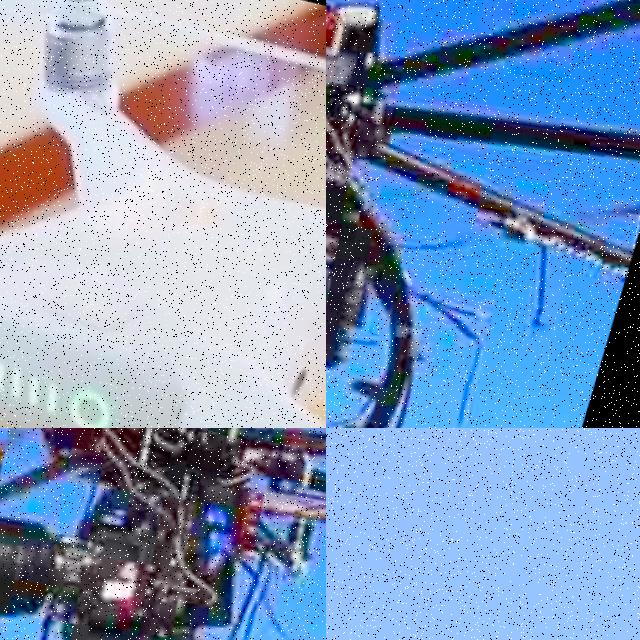drone: (0, 0, 326, 428), (326, 0, 640, 428), (0, 428, 326, 640)
